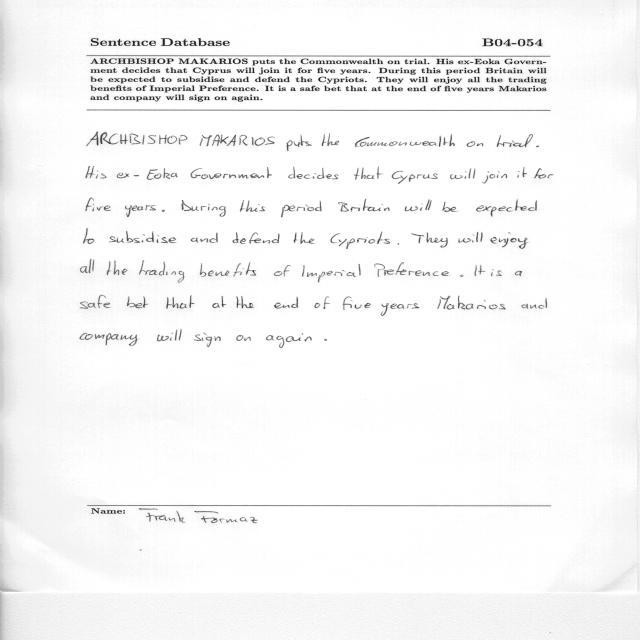word: (87, 132, 188, 146), (355, 134, 455, 147), (374, 262, 450, 277), (302, 264, 361, 283), (476, 199, 537, 216), (139, 260, 184, 283), (331, 232, 391, 249), (190, 167, 272, 179), (437, 296, 506, 310), (200, 135, 275, 147), (200, 262, 256, 277), (109, 231, 176, 243), (181, 200, 226, 217), (80, 333, 138, 346), (117, 168, 178, 180), (266, 333, 312, 348), (338, 199, 390, 212), (281, 202, 322, 218), (490, 232, 528, 249), (288, 167, 339, 179), (392, 171, 438, 184), (411, 232, 448, 248), (233, 232, 280, 244), (381, 303, 420, 316), (497, 134, 533, 148), (80, 295, 111, 309), (286, 135, 312, 151), (166, 295, 195, 309), (194, 333, 221, 347), (354, 167, 383, 180), (342, 297, 371, 310), (125, 205, 156, 217), (482, 171, 507, 184), (86, 198, 111, 211), (405, 199, 432, 211), (240, 200, 265, 212), (107, 261, 127, 276), (157, 330, 182, 342), (191, 232, 218, 243), (274, 297, 298, 309), (450, 168, 475, 179), (458, 232, 483, 243), (522, 298, 547, 309), (86, 166, 107, 179), (294, 232, 315, 244), (127, 297, 148, 309), (322, 133, 339, 146), (534, 168, 554, 179), (237, 296, 255, 308), (314, 296, 330, 309), (274, 265, 291, 277), (81, 259, 95, 273), (213, 296, 227, 308), (84, 229, 95, 244), (443, 202, 458, 212), (475, 265, 486, 276), (518, 167, 528, 178), (467, 141, 484, 147), (236, 335, 251, 341), (491, 269, 502, 276), (515, 271, 522, 276), (460, 274, 463, 277), (536, 146, 539, 148), (162, 210, 165, 212), (324, 339, 327, 341), (398, 243, 399, 245)
